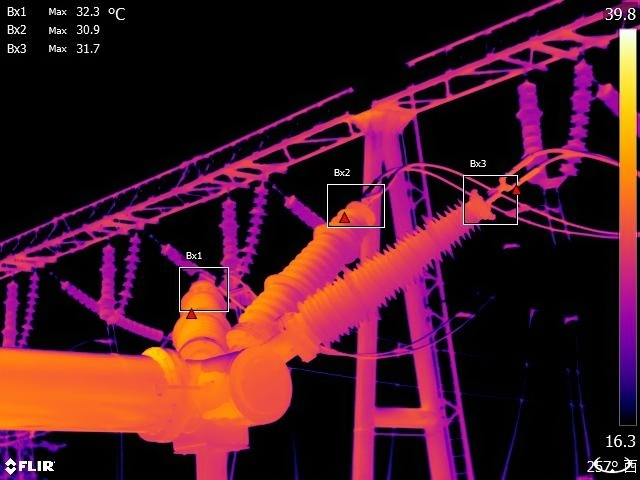insulator: (60, 276, 166, 343), (557, 49, 596, 172), (513, 77, 551, 182), (240, 183, 271, 274), (114, 230, 147, 308), (158, 243, 213, 282), (286, 190, 329, 235), (219, 198, 242, 279), (20, 262, 43, 343), (2, 271, 22, 348), (98, 239, 114, 320)
tube: (290, 186, 507, 352), (235, 191, 388, 337), (167, 277, 233, 364)
